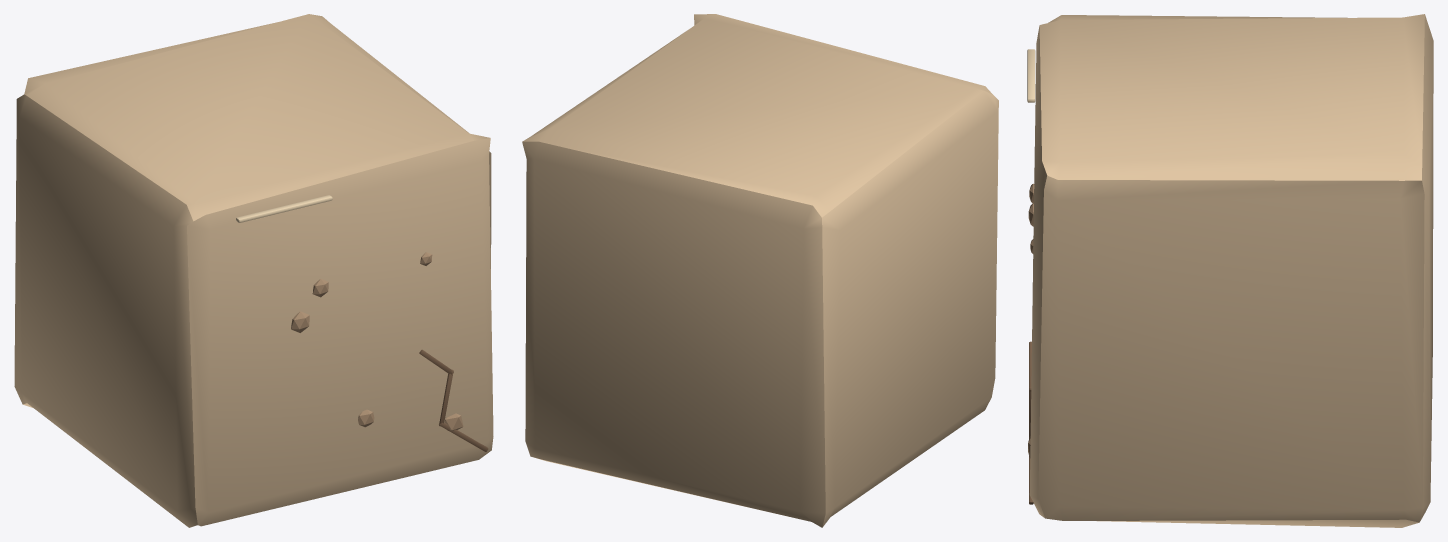
The model's file is tile_stone_a.glb.
3 renders of one model, left to right at view 1: azimuth 30°, elevation 25°; view 2: azimuth 150°, elevation 25°; view 3: azimuth 270°, elevation 25°, orthographic. The views are drawn at different scales.
Parts seen in each view (by area): view 1: tile_stone_a; view 2: tile_stone_a; view 3: tile_stone_a.
Part boxes in pixels (bbox=[...]): tile_stone_a: bbox=[14, 14, 493, 527]; tile_stone_a: bbox=[522, 14, 998, 527]; tile_stone_a: bbox=[1027, 14, 1433, 527].
Size of the model in its own units: 1.01 by 1.03 by 1.02.
